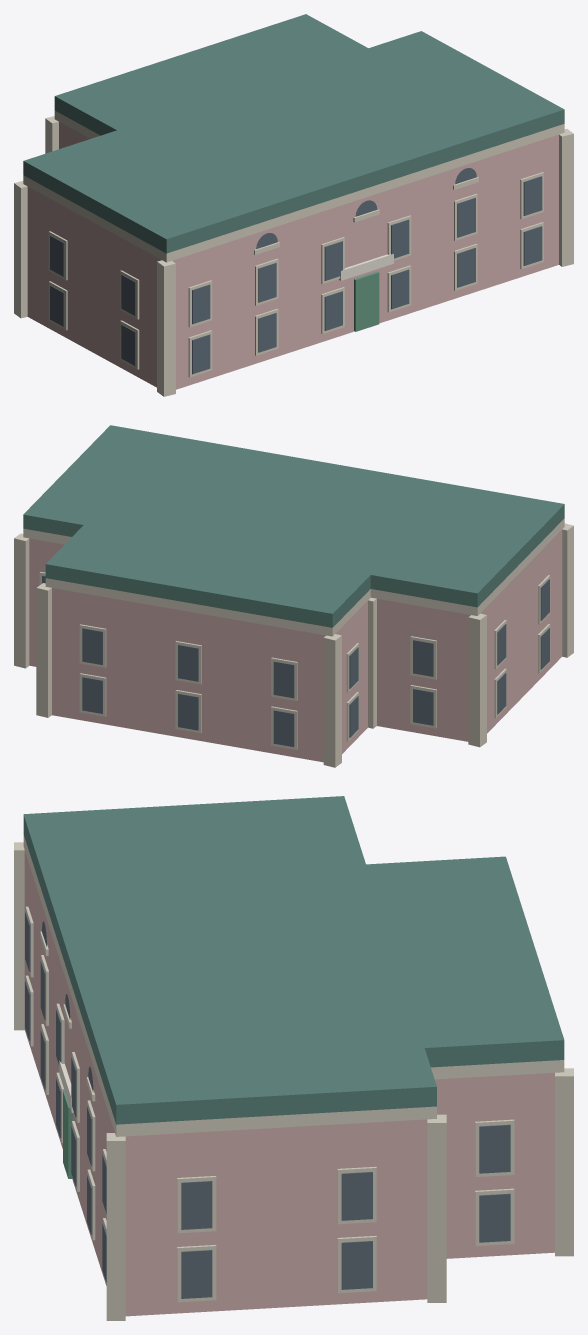
The model's file is rodman_detail.glb.
3 renders of one model, top to bottom at view 1: azimuth 30°, elevation 25°; view 2: azimuth 150°, elevation 25°; view 3: azimuth 270°, elevation 25°, orthographic. The views are drawn at different scales.
Parts seen in each view (by area): view 1: roofcap, mass, cornice, quoin_-12_-12, quoin_13_-9, quoin_-14_-0, roddoor, win_3_0.92_1.3, win_3_0.92_4.1, win_3_0.08_1.3, win_3_0.08_4.1, win_3_0.25_1.3 (+12 smaller); view 2: roofcap, mass, cornice, quoin_-8_6, quoin_-14_-0, quoin_12_3, quoin_8_8, quoin_-12_-12, quoin_-8_1, win_7_0.83_4.1, win_7_0.83_1.3, win_7_0.50_1.3 (+7 smaller); view 3: roofcap, mass, cornice, quoin_12_3, quoin_13_-9, quoin_8_8, quoin_-12_-12, win_0_0.50_4.1, win_0_0.50_1.3, win_2_0.25_1.3, win_2_0.25_4.1, win_2_0.75_1.3 (+8 smaller).
Boxes of the visible parts, bbox=[...] form: roofcap: bbox=[23, 14, 564, 253]; mass: bbox=[27, 122, 558, 389]; cornice: bbox=[23, 110, 564, 262]; quoin_-12_-12: bbox=[157, 260, 175, 396]; quoin_13_-9: bbox=[559, 129, 573, 266]; quoin_-14_-0: bbox=[14, 181, 27, 318]; roddoor: bbox=[354, 271, 379, 331]; win_3_0.92_1.3: bbox=[523, 226, 542, 265]; win_3_0.92_4.1: bbox=[523, 176, 542, 215]; win_3_0.08_1.3: bbox=[192, 334, 210, 374]; win_3_0.08_4.1: bbox=[192, 284, 210, 324]; win_3_0.25_1.3: bbox=[258, 312, 276, 352]; roofcap: bbox=[23, 425, 564, 627]; mass: bbox=[29, 529, 562, 762]; cornice: bbox=[23, 518, 564, 636]; quoin_-8_6: bbox=[323, 634, 341, 767]; quoin_-14_-0: bbox=[468, 613, 486, 747]; quoin_12_3: bbox=[14, 533, 29, 668]; quoin_8_8: bbox=[36, 583, 51, 717]; quoin_-12_-12: bbox=[562, 523, 573, 657]; quoin_-8_1: bbox=[368, 597, 376, 728]; win_7_0.83_4.1: bbox=[273, 661, 294, 698]; win_7_0.83_1.3: bbox=[273, 710, 294, 746]; win_7_0.50_1.3: bbox=[178, 693, 198, 730]; roofcap: bbox=[23, 796, 564, 1124]; mass: bbox=[24, 850, 554, 1316]; cornice: bbox=[23, 835, 564, 1136]; quoin_12_3: bbox=[427, 1114, 446, 1302]; quoin_13_-9: bbox=[106, 1133, 125, 1320]; quoin_8_8: bbox=[555, 1068, 573, 1256]; quoin_-12_-12: bbox=[14, 842, 24, 1030]; win_0_0.50_4.1: bbox=[479, 1124, 510, 1173]; win_0_0.50_1.3: bbox=[479, 1193, 510, 1242]; win_2_0.25_1.3: bbox=[181, 1250, 212, 1298]; win_2_0.25_4.1: bbox=[181, 1181, 212, 1229]; win_2_0.75_1.3: bbox=[341, 1241, 372, 1289].
Bounding box in the file's own units: 27.57 × 8.6 × 20.59.
